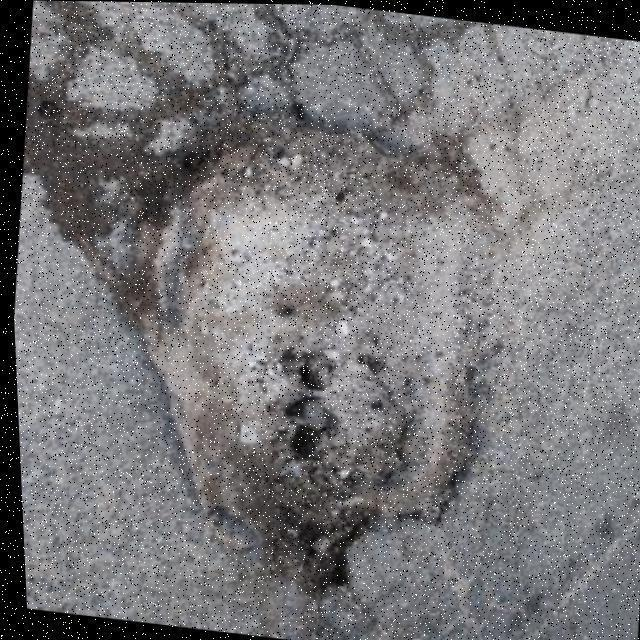Pothole: (115, 120, 496, 594)
